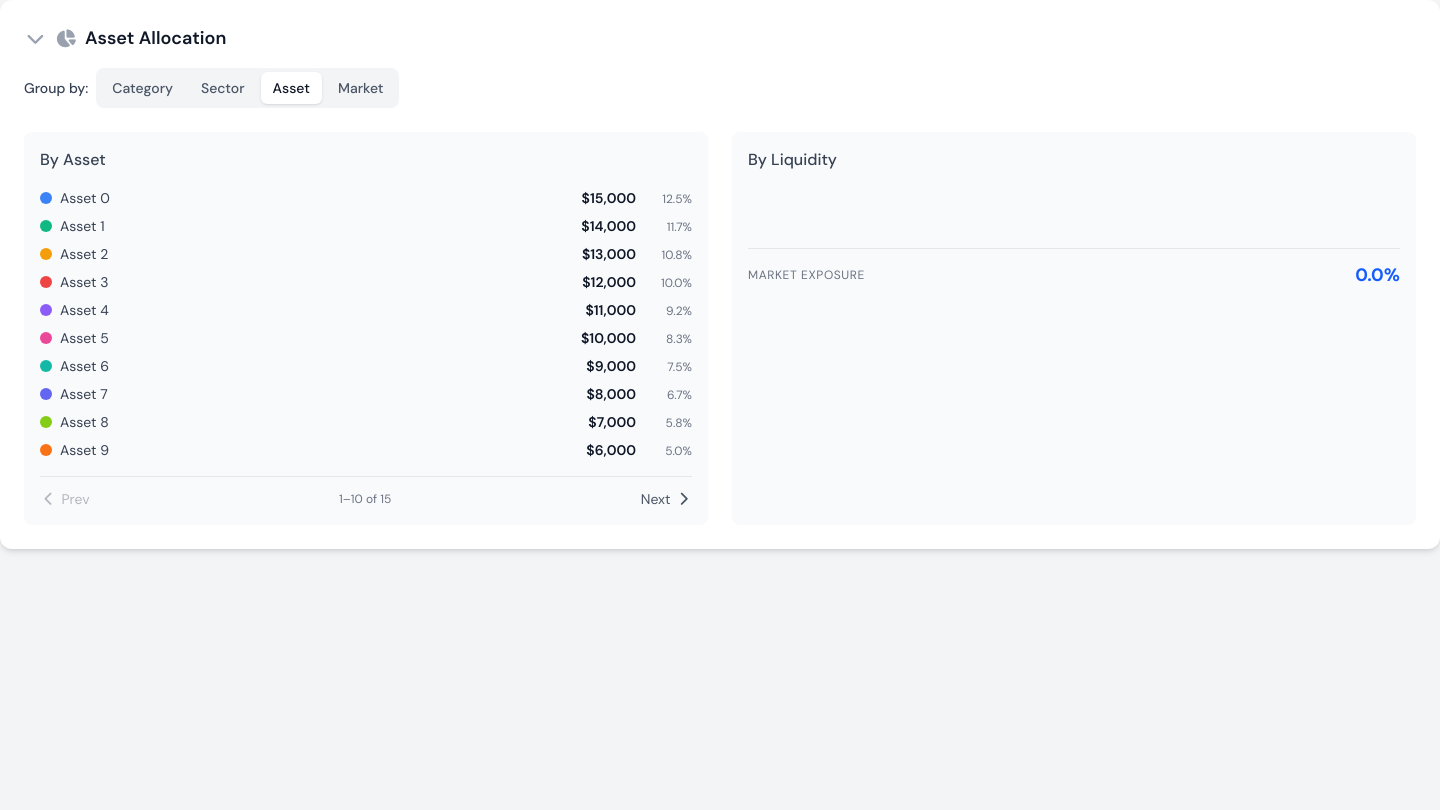
AssetAllocationCharts — asset view always lists › pages to the remaining assets via Next
Click the button "Next": (666, 499) [641,489,692,509]
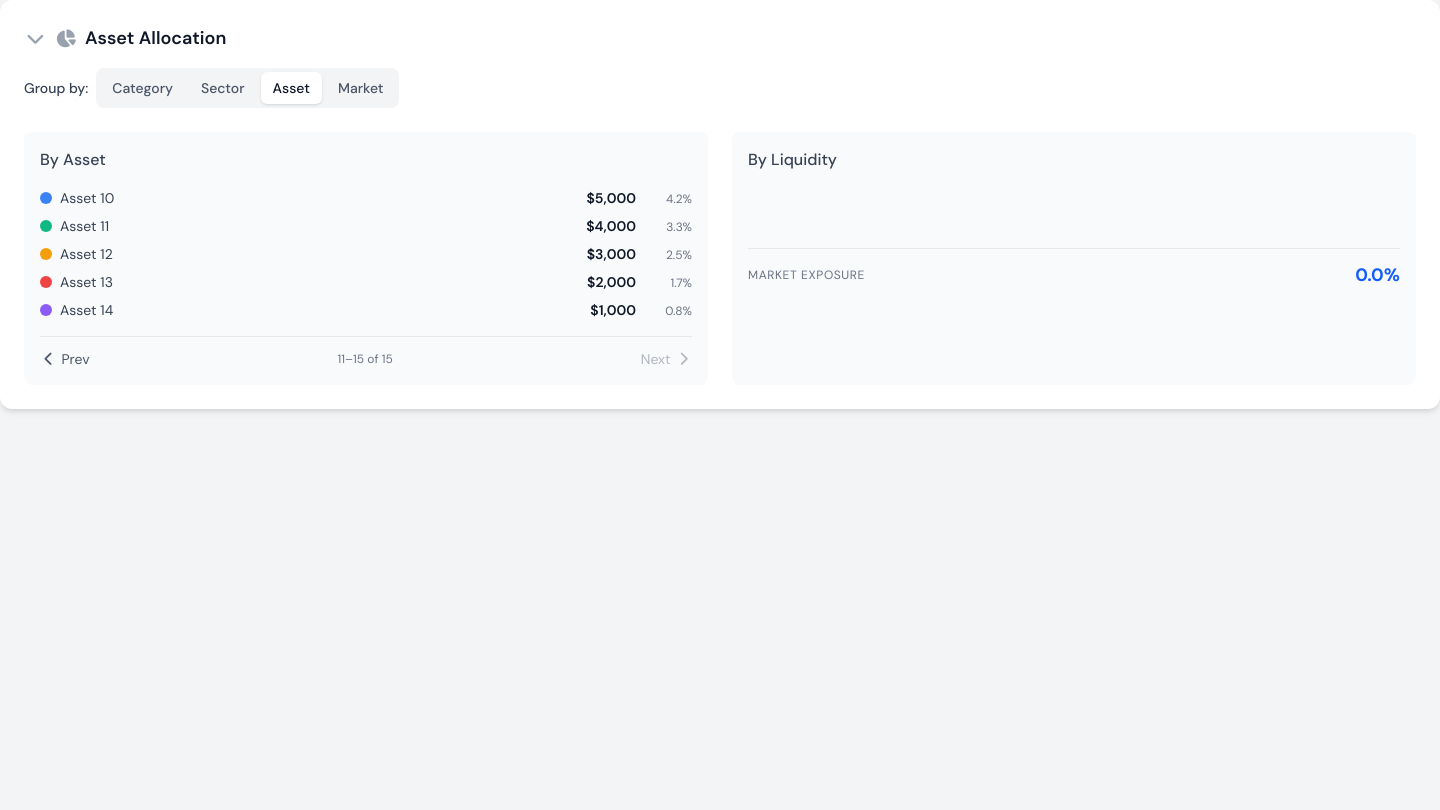
Expected: the text "Asset 10" is shown, [60,188,114,208]
Expected: the text "Asset 14" is shown, [60,300,113,320]
Expected: the text "Asset 0" is gone
